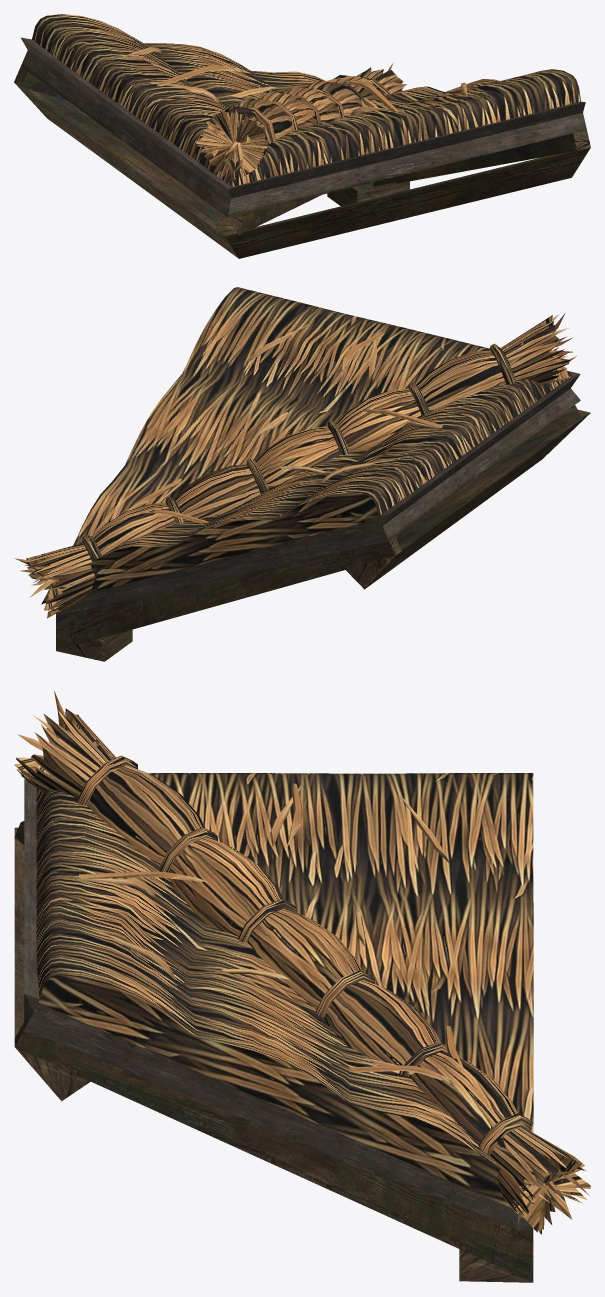
The picture shows the model from 3 angles, top to bottom: view 1: azimuth 30°, elevation 25°; view 2: azimuth 150°, elevation 25°; view 3: azimuth 270°, elevation 25°; orthographic projection. The views are drawn at different scales.
Parts seen in each view (by area): view 1: SM_BB_T1_Extended_Roof_Large_Valley_Shallow_LOD0; view 2: SM_BB_T1_Extended_Roof_Large_Valley_Shallow_LOD0; view 3: SM_BB_T1_Extended_Roof_Large_Valley_Shallow_LOD0.
Boxes of the visible parts, box(x1,y1,x2,y2) form: SM_BB_T1_Extended_Roof_Large_Valley_Shallow_LOD0: box(14, 14, 590, 258); SM_BB_T1_Extended_Roof_Large_Valley_Shallow_LOD0: box(15, 287, 590, 661); SM_BB_T1_Extended_Roof_Large_Valley_Shallow_LOD0: box(14, 691, 590, 1282).
Bounding box in the file's own units: 3.45 × 2.54 × 3.5.
3 materials, 3 textured.
